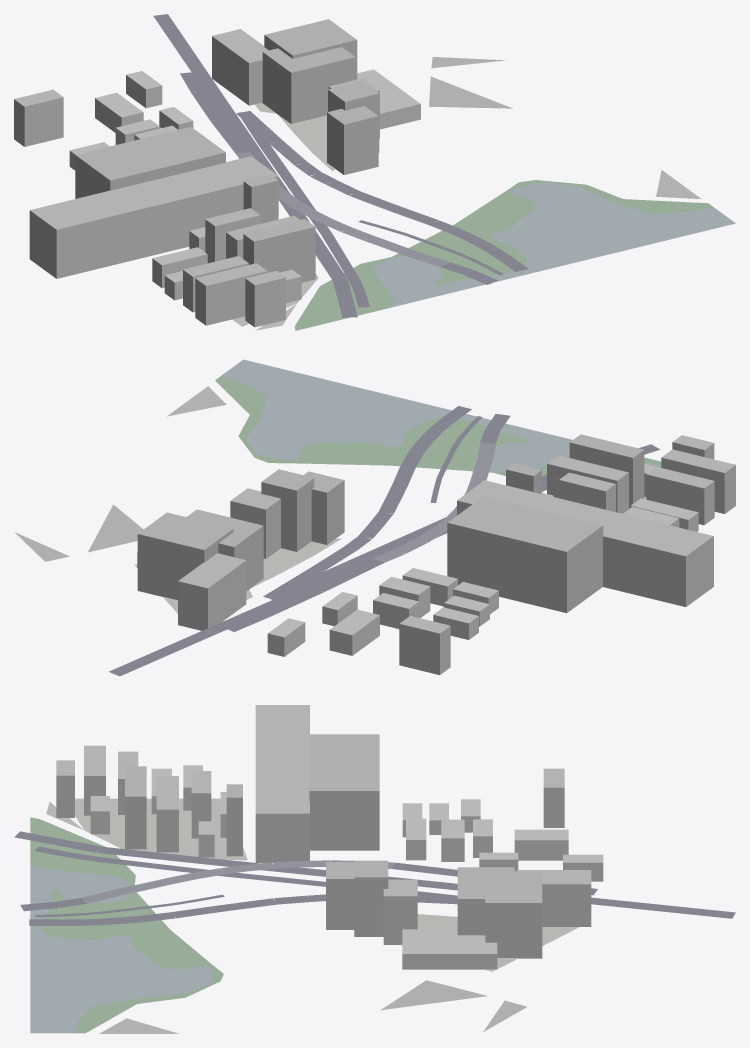
The model's file is 122_111_mid.glb.
The picture shows the model from 3 angles, top to bottom: view 1: azimuth 30°, elevation 25°; view 2: azimuth 150°, elevation 25°; view 3: azimuth 270°, elevation 25°; orthographic projection. The views are drawn at different scales.
Size of the model in its own units: 594 by 61.03 by 652.
